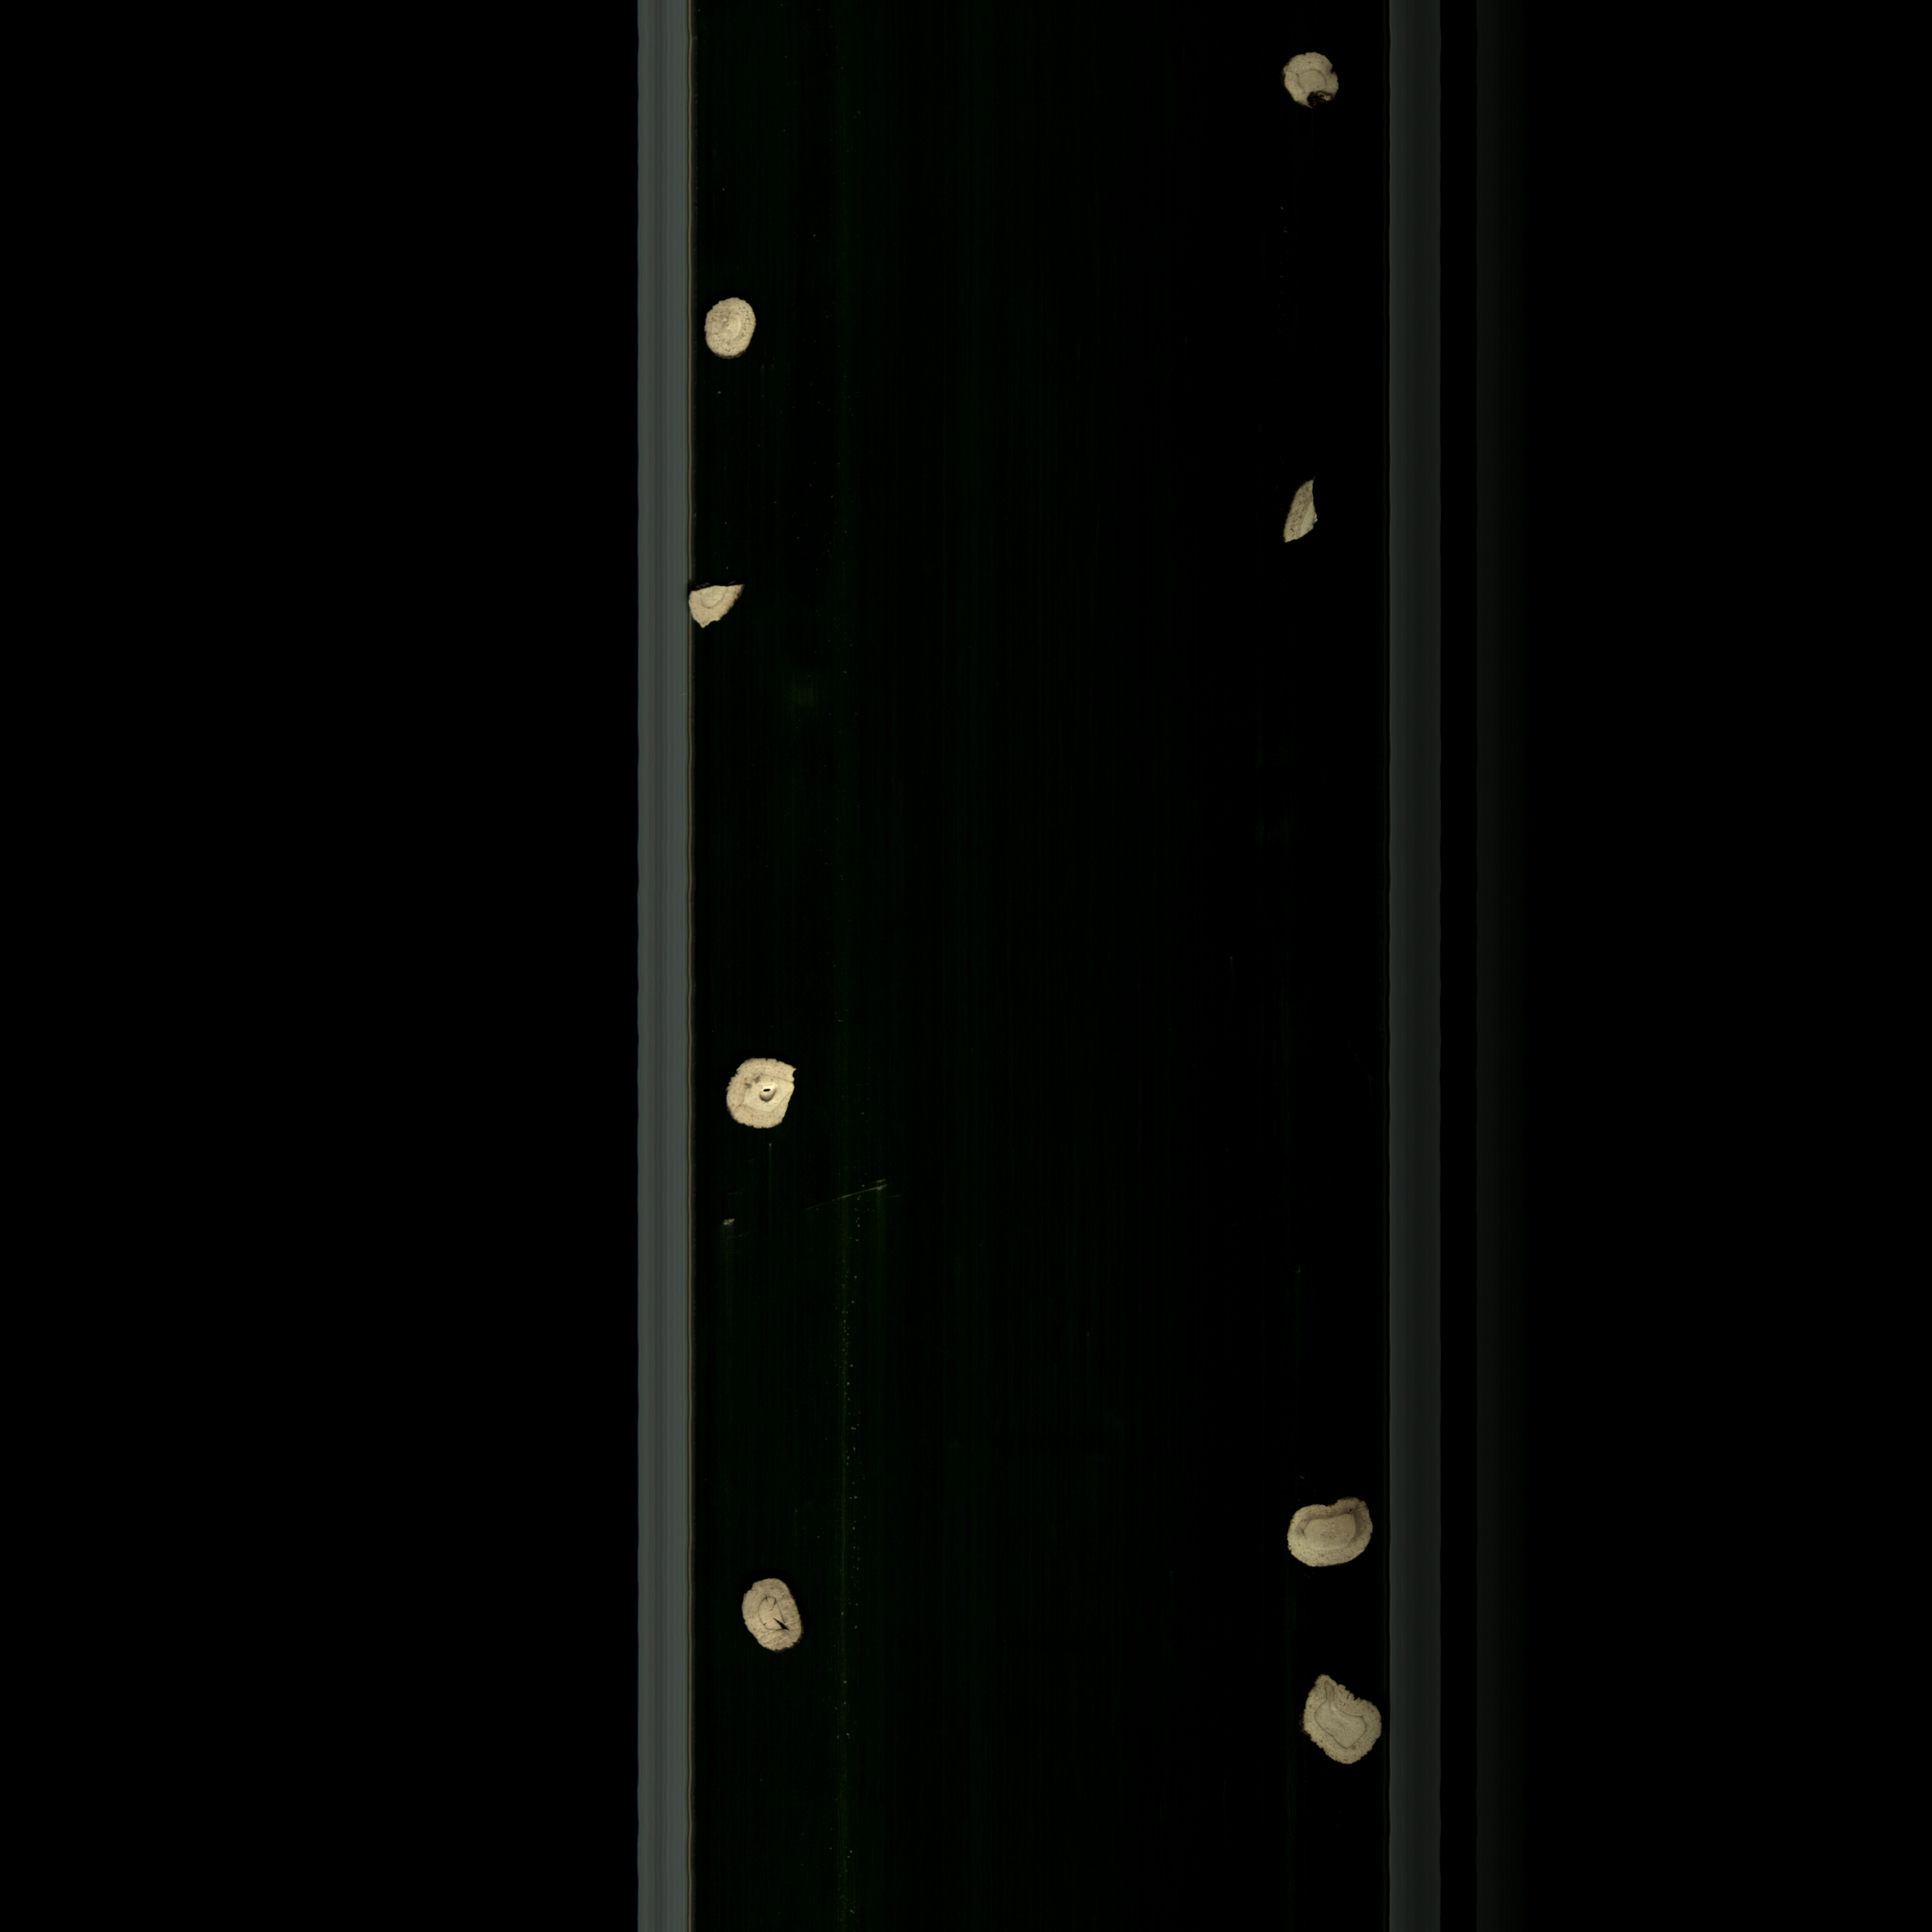debris: (720, 1056, 819, 1150), (1279, 44, 1350, 119)
distortion: (1299, 1667, 1385, 1778)
dreg: (683, 580, 759, 637), (1283, 469, 1330, 557)
hole: (740, 1573, 814, 1672)
moldy: (1281, 1488, 1384, 1580)
